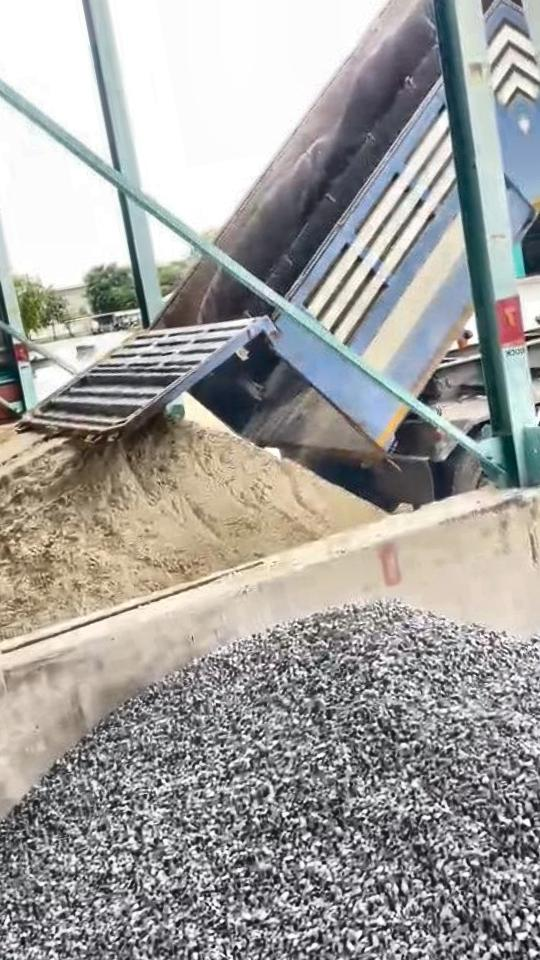gravel: (0, 605, 540, 960)
sand: (0, 418, 382, 655), (0, 427, 16, 497)
